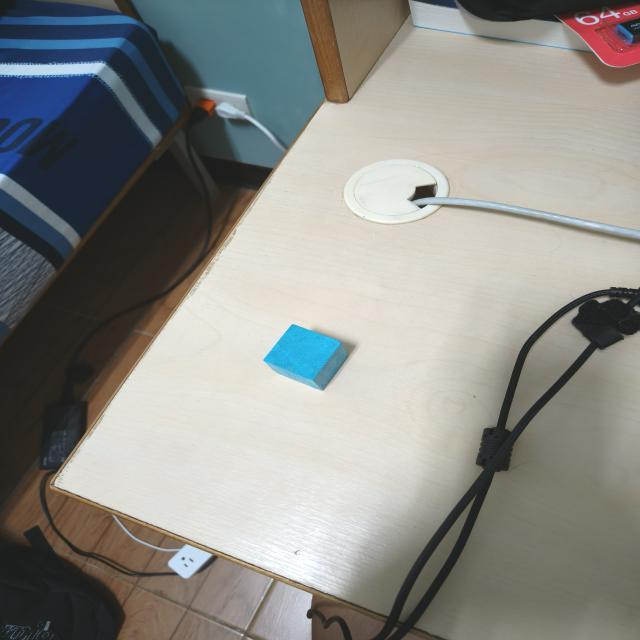blue_block: (262, 326, 350, 392)
